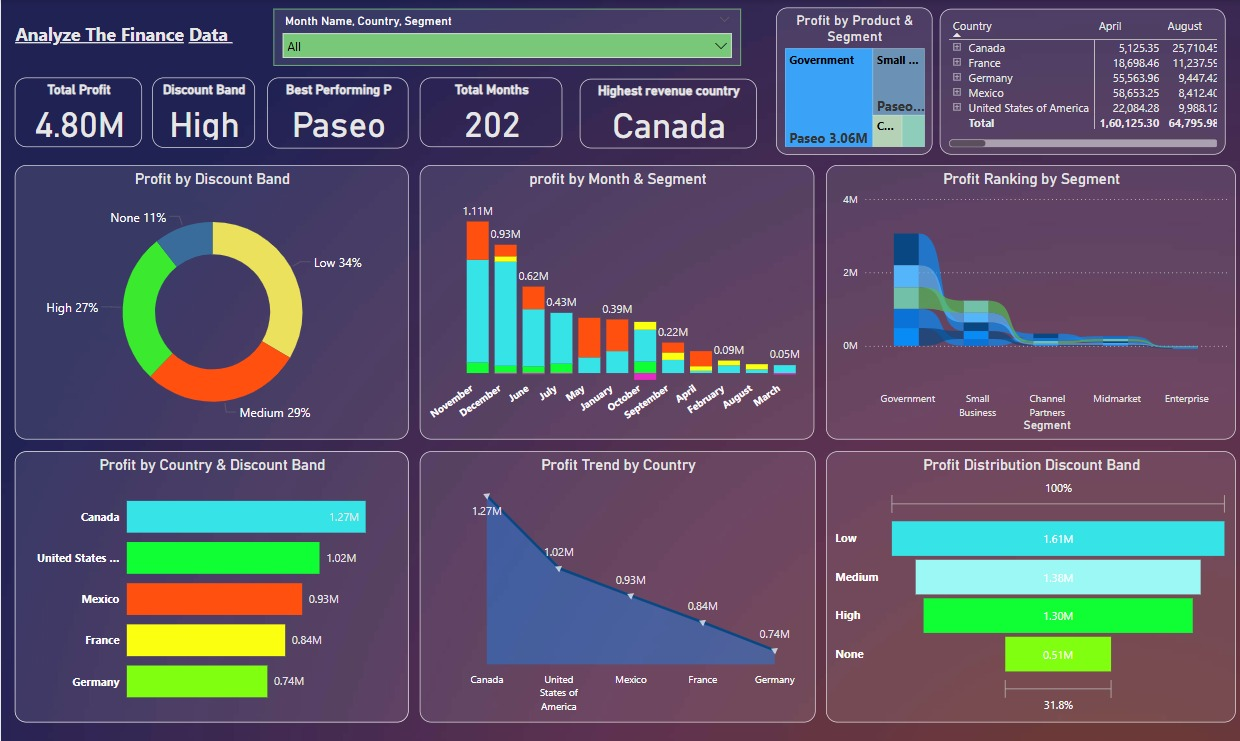

This screenshot's page, from the dashboard's own definition file:
{"tool":"powerbi","page":{"name":"SATYAM","canvas":[1500,900],"ordinal":0},"visuals":[{"type":"card","title":"Total Profit","fields":{"Values":["Sum(Table 1.Profit)"]},"box":[16.8,93.6,153.7,83.8],"z":0},{"type":"card","title":"Discount Band","fields":{"Values":["Min(Table 1.Discount Band)"]},"box":[182.5,93.5,123.7,84.5],"z":1000},{"type":"card","title":"Best Performing P","fields":{"Values":["Min(Table 1.Product)"]},"box":[321.5,93,170.7,85.3],"z":2000},{"type":"card","title":"Total Months","fields":{"Values":["CountNonNull(Table 1.Month Name)"]},"box":[505.9,93,172.2,83.8],"z":3000},{"type":"card","title":"Highest revenue country","fields":{"Values":["Min(Table 1.Country)"]},"box":[697.9,94.5,213.3,83.8],"z":4000},{"type":"pieChart","title":"Profit by Discount Band","fields":{"Y":["Sum(Table 1.Profit)"],"Category":["Table 1.Discount Band"]},"box":[16.8,199.8,474.9,331.1],"z":6000},{"type":"columnChart","title":"profit by Month & Segment","fields":{"Series":["Table 1.Segment"],"Category":["Table 1.Month Name"],"Y":["Sum(Table 1.Profit)"]},"box":[505.7,199.8,476.3,331.1],"z":7000},{"type":"pivotTable","fields":{"Rows":["Table 1.Country","Table 1.Segment"],"Columns":["Table 1.Month Name"],"Values":["Sum(Table 1.Profit)"]},"box":[1132.9,11.2,345,176],"z":8000},{"type":"barChart","title":"Profit by Country & Discount Band","fields":{"Category":["Table 1.Country"],"Y":["Sum(Table 1.Profit)"]},"box":[16.8,544.8,474.9,326.9],"z":9000},{"type":"funnel","title":"Profit Distribution Discount  Band","fields":{"Y":["Sum(Table 1.Profit)"],"Category":["Table 1.Discount Band"]},"box":[994.6,544.8,494.5,326.9],"z":10000},{"type":"areaChart","title":"Profit Trend by Country ","fields":{"Y":["Sum(Table 1.Profit)"],"Category":["Table 1.Country"]},"box":[505.7,544.8,477.7,326.9],"z":11000},{"type":"treemap","title":"Profit by Product & Segment","fields":{"Group":["Table 1.Segment"],"Values":["Sum(Table 1.Profit)"],"Details":["Table 1.Product"]},"box":[934.5,9.8,188.6,177.4],"z":12000},{"type":"slicer","fields":{"Values":["Table 1.Month Name","Table 1.Country","Table 1.Segment"]},"box":[329.1,10.7,563.8,68.6],"z":13000},{"type":"textbox","box":[12.2,21.3,317,47.2],"z":14000},{"type":"ribbonChart","title":"Profit Ranking by Segment","fields":{"Category":["Table 1.Segment"],"Y":["Sum(Table 1.Profit)"],"Series":["Table 1.Country"]},"box":[994.6,199.8,494.5,331.1],"z":15000}]}

Visuals, with their boxes in screenshot pixels (x1, y1, x2, y2), scaled from the page's 1500x900 canvas onto the 1240x741 screenshot:
"Total Profit" card: region(14, 77, 141, 146)
"Discount Band" card: region(151, 77, 253, 147)
"Best Performing P" card: region(266, 77, 407, 147)
"Total Months" card: region(418, 77, 561, 146)
"Highest revenue country" card: region(577, 78, 753, 147)
"Profit by Discount Band" pieChart: region(14, 165, 406, 437)
"profit by Month & Segment" columnChart: region(418, 165, 812, 437)
pivotTable - Table 1.Country x Table 1.Segment: region(937, 9, 1222, 154)
"Profit by Country & Discount Band" barChart: region(14, 449, 406, 718)
"Profit Distribution Discount  Band" funnel: region(822, 449, 1231, 718)
"Profit Trend by Country " areaChart: region(418, 449, 813, 718)
"Profit by Product & Segment" treemap: region(773, 8, 928, 154)
slicer - Table 1.Month Name x Table 1.Country: region(272, 9, 738, 65)
textbox: region(10, 18, 272, 56)
"Profit Ranking by Segment" ribbonChart: region(822, 165, 1231, 437)
